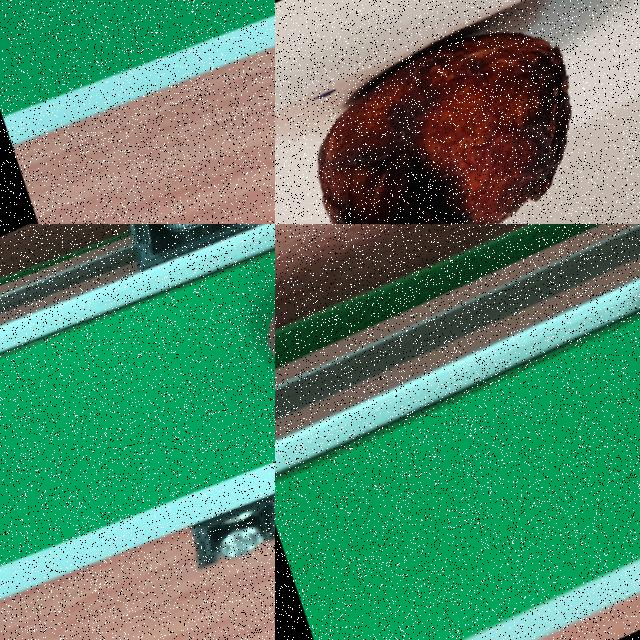Agglomerated_cocoabeans: (275, 0, 639, 223)
Fine_cocoabeans: (153, 224, 274, 472)
Flat_cocoabeans: (543, 224, 639, 482)
